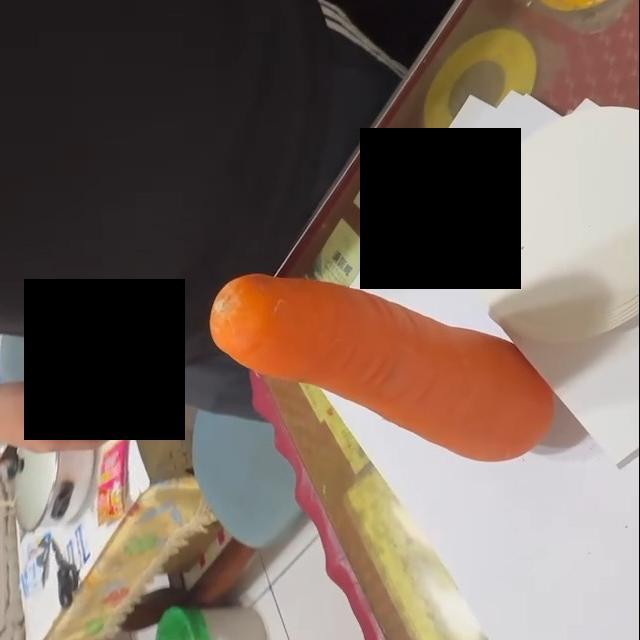carrot: (210, 276, 550, 460)
